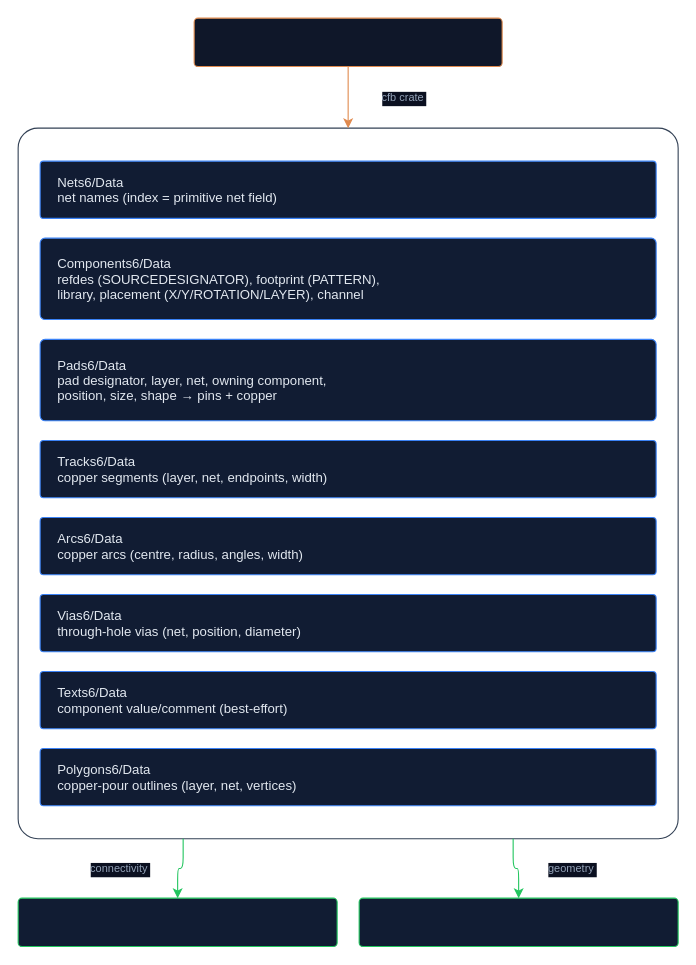
Image size: 696x965. Some labels were removed from this diagram. Each missing label, with the centre of its shape:
.PcbDoc (OLE2/CFB): the point at 347,42
altium_drc → DrcReport: the point at 518,922
ExtractedBoard (nets, components, pads): the point at 177,922
